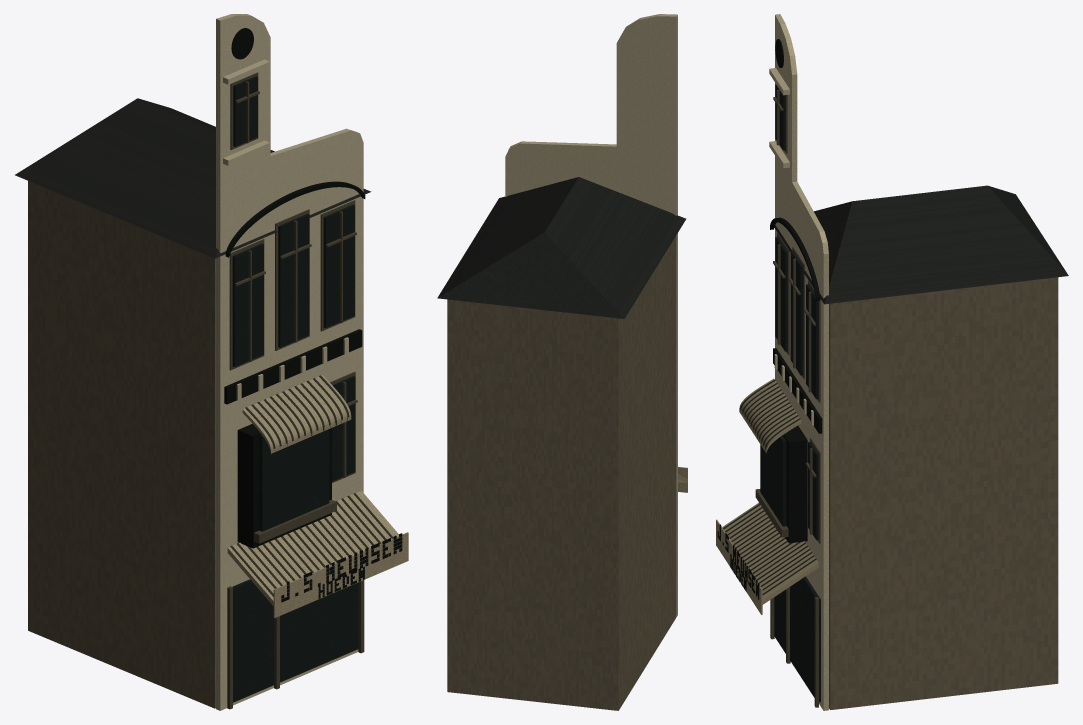
The picture shows the model from 3 angles, left to right: view 1: azimuth 30°, elevation 25°; view 2: azimuth 150°, elevation 25°; view 3: azimuth 270°, elevation 25°; orthographic projection. The views are drawn at different scales.
Parts seen in each view (by area): view 1: meuwsen-mosseltrap-0, meuwsen-mosseltrap-2, meuwsen-mosseltrap-7, meuwsen-mosseltrap-1, meuwsen-mosseltrap-4, meuwsen-mosseltrap-3, meuwsen-mosseltrap-6, meuwsen-mosseltrap-5; view 2: meuwsen-mosseltrap-0, meuwsen-mosseltrap-1, meuwsen-mosseltrap-2; view 3: meuwsen-mosseltrap-0, meuwsen-mosseltrap-1, meuwsen-mosseltrap-2, meuwsen-mosseltrap-7, meuwsen-mosseltrap-4, meuwsen-mosseltrap-6, meuwsen-mosseltrap-3, meuwsen-mosseltrap-5.
Boxes of the visible parts, x1=… form: meuwsen-mosseltrap-0: x1=28, y1=181, x2=215, y2=708; meuwsen-mosseltrap-2: x1=216, y1=14, x2=363, y2=710; meuwsen-mosseltrap-7: x1=232, y1=76, x2=358, y2=702; meuwsen-mosseltrap-1: x1=15, y1=98, x2=371, y2=258; meuwsen-mosseltrap-4: x1=227, y1=375, x2=408, y2=617; meuwsen-mosseltrap-3: x1=224, y1=28, x2=402, y2=602; meuwsen-mosseltrap-6: x1=227, y1=72, x2=364, y2=709; meuwsen-mosseltrap-5: x1=230, y1=375, x2=393, y2=596; meuwsen-mosseltrap-0: x1=447, y1=236, x2=676, y2=710; meuwsen-mosseltrap-1: x1=437, y1=177, x2=686, y2=318; meuwsen-mosseltrap-2: x1=505, y1=14, x2=677, y2=616; meuwsen-mosseltrap-0: x1=829, y1=277, x2=1058, y2=709; meuwsen-mosseltrap-1: x1=774, y1=185, x2=1068, y2=304; meuwsen-mosseltrap-2: x1=769, y1=14, x2=828, y2=710; meuwsen-mosseltrap-7: x1=760, y1=84, x2=820, y2=702; meuwsen-mosseltrap-4: x1=716, y1=378, x2=818, y2=614; meuwsen-mosseltrap-6: x1=755, y1=90, x2=820, y2=707; meuwsen-mosseltrap-3: x1=717, y1=39, x2=822, y2=599; meuwsen-mosseltrap-5: x1=723, y1=379, x2=816, y2=595.
Size of the model in its own units: 7.66 by 20 by 10.29.
8 materials, 8 textured.
